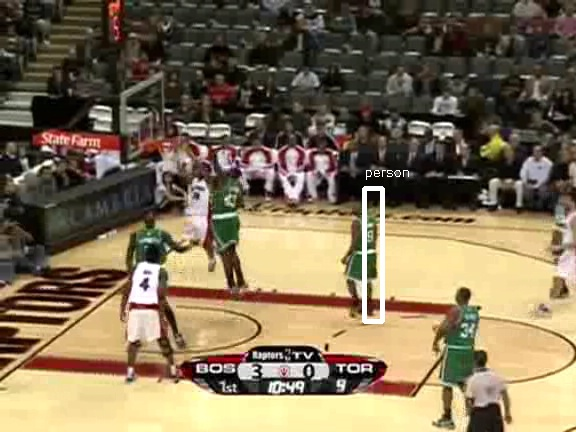person: (351, 208, 385, 289), (350, 208, 384, 289), (352, 208, 386, 289), (351, 207, 385, 288), (351, 209, 385, 290)
target_negative: (87, 208, 183, 327), (492, 268, 559, 356), (55, 293, 174, 338), (285, 414, 548, 422), (137, 424, 434, 430), (284, 291, 469, 292)
